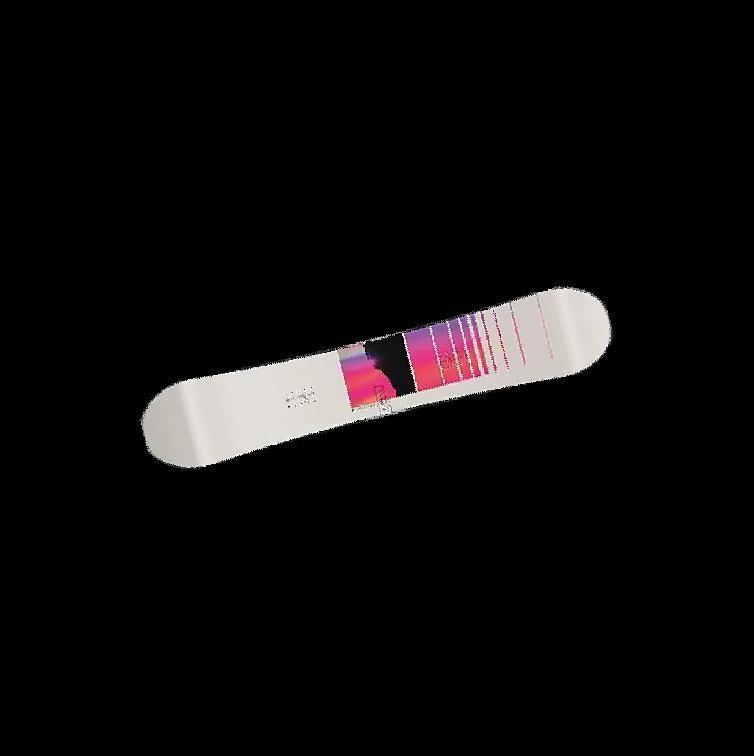Snowboard: (139, 284, 612, 469)
